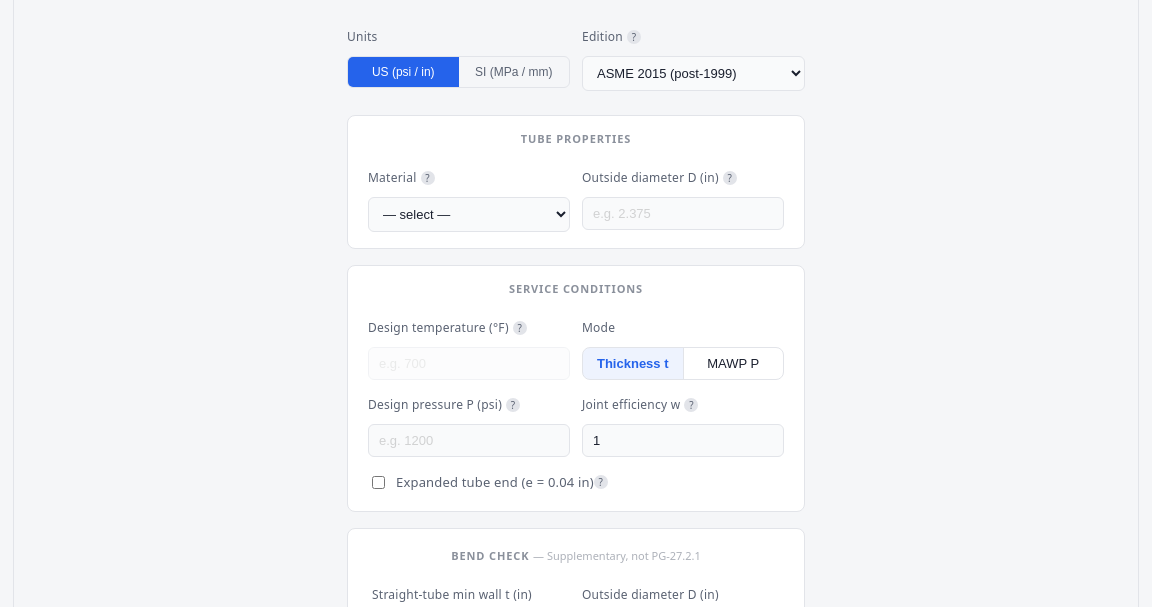
it: TubeCalculator Show Work › clicking Show Work reveals thickness step rows
The width and height of the screenshot is (1152, 607).
Select "SA-178 C" in the dropdown labelled "Material ?". click: (469, 215)
box: [368,197,570,232]
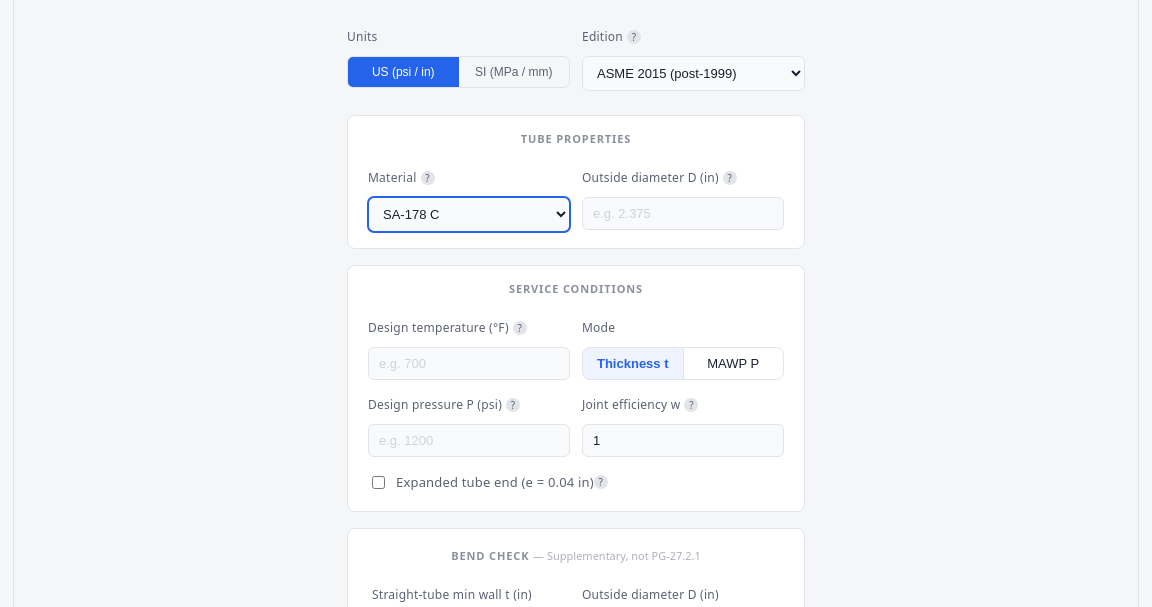
Type "700" into the number field with placeholder "e.g. 700". click: (469, 364)
box: [368,347,570,380]
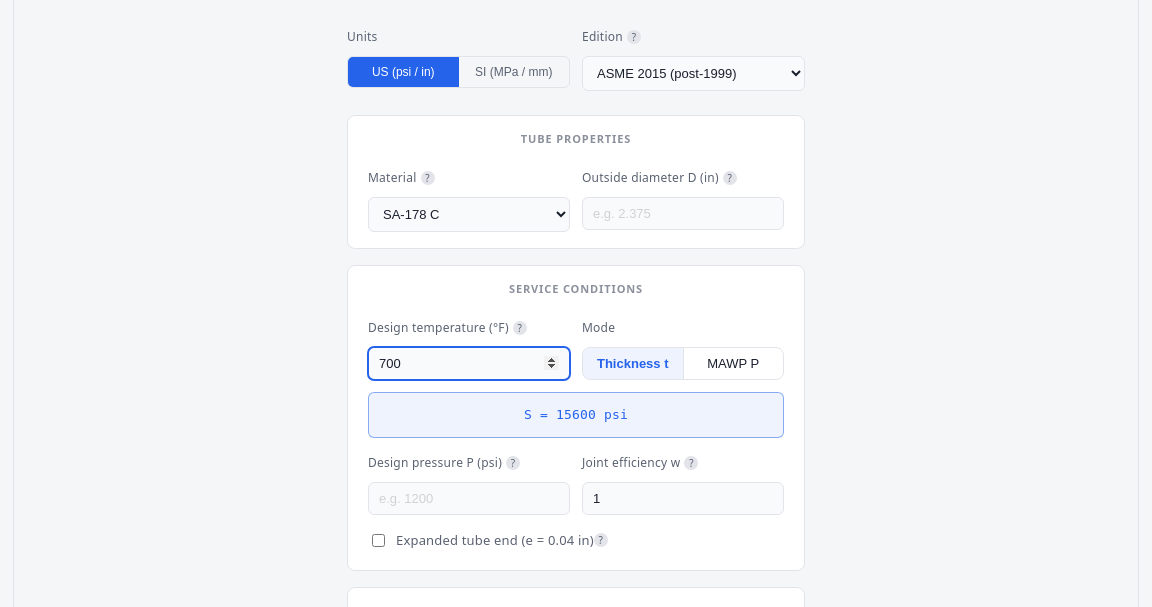
Type "970" into the number field with placeholder "e.g. 1200". click: (469, 499)
box: [368,482,570,515]
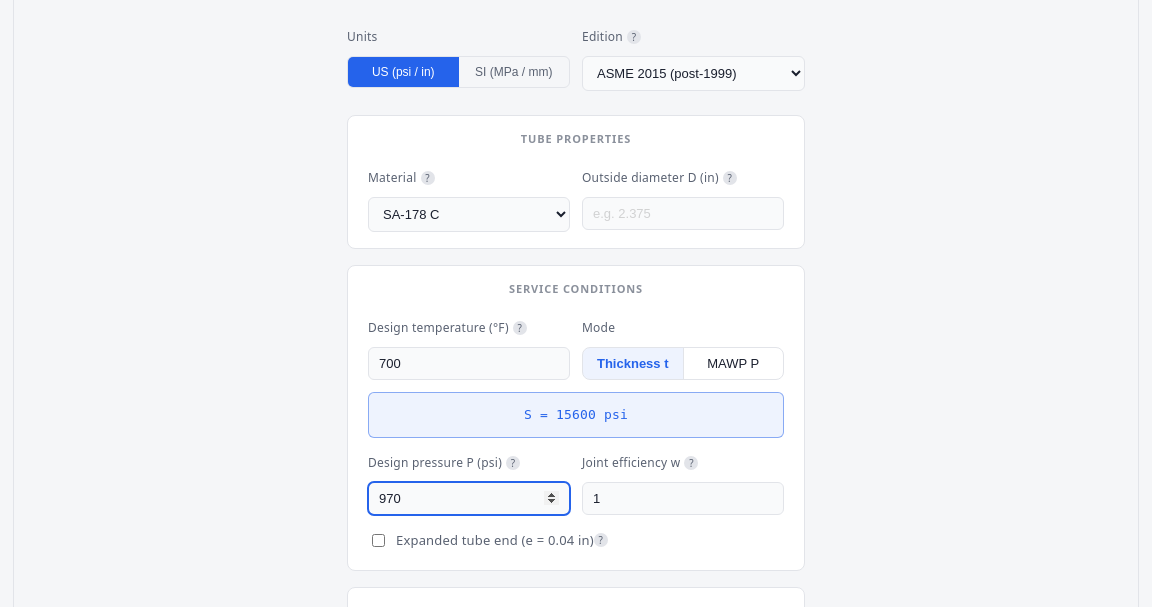
Type "2.375" into the number field with placeholder "e.g. 2.375". click: (683, 214)
box: [582,197,784,230]
(page scrolled)
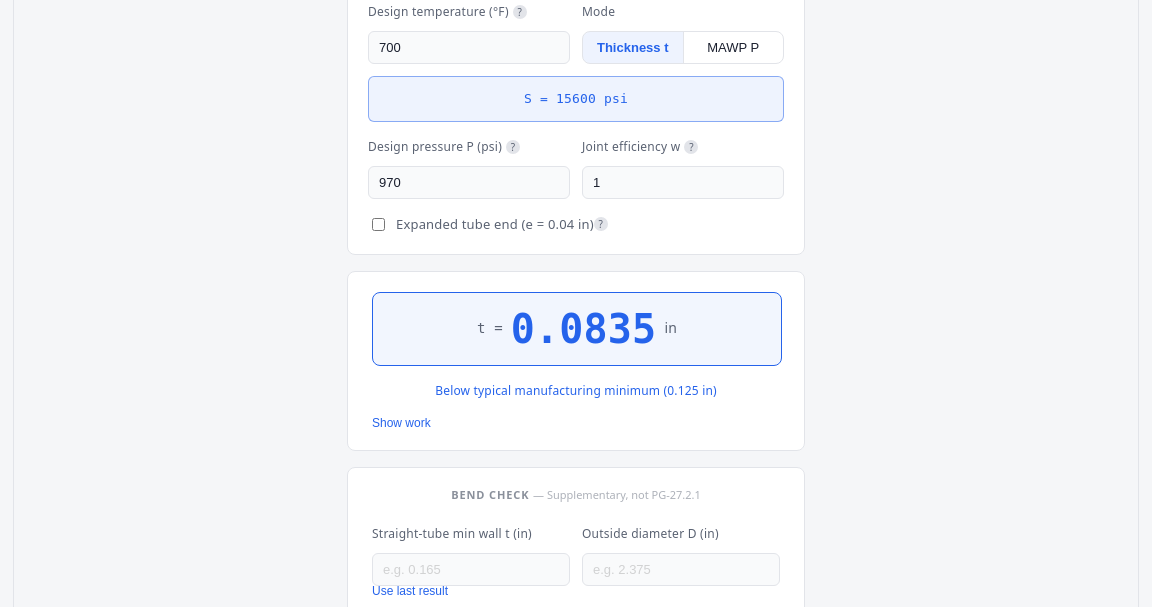
Click the button "Show work". click: (401, 423)
box: [372,416,780,430]
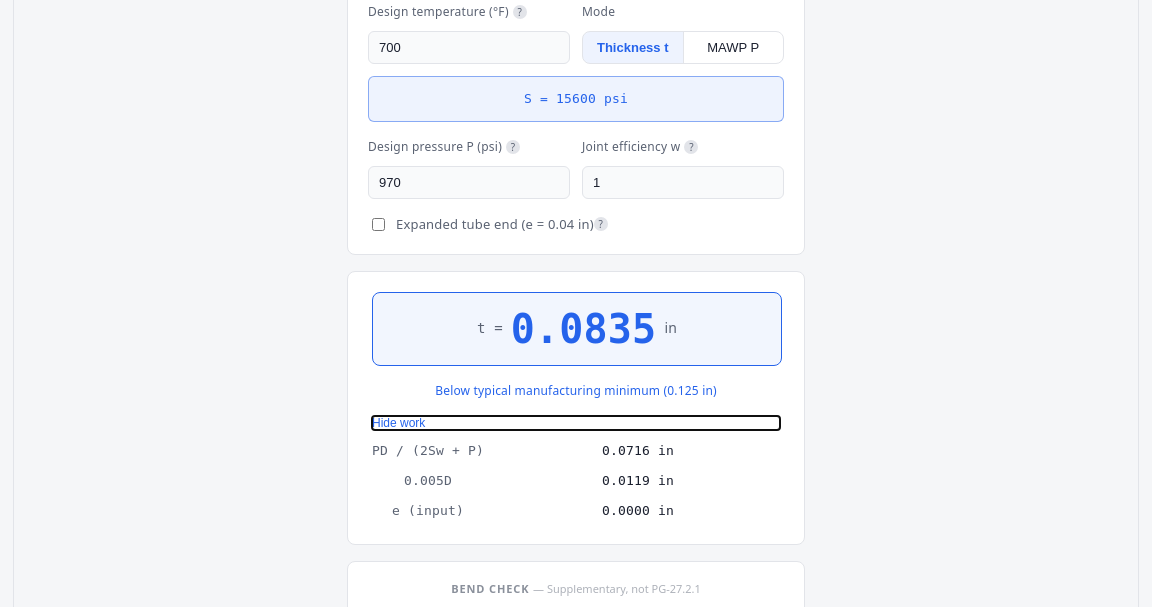
Now the text "PD / (2Sw + P)" is shown, box [372,443,484,458]
Now the text "0.005D" is shown, box [404,473,452,488]
Now the text "e (input)" is shown, box [392,503,464,518]
